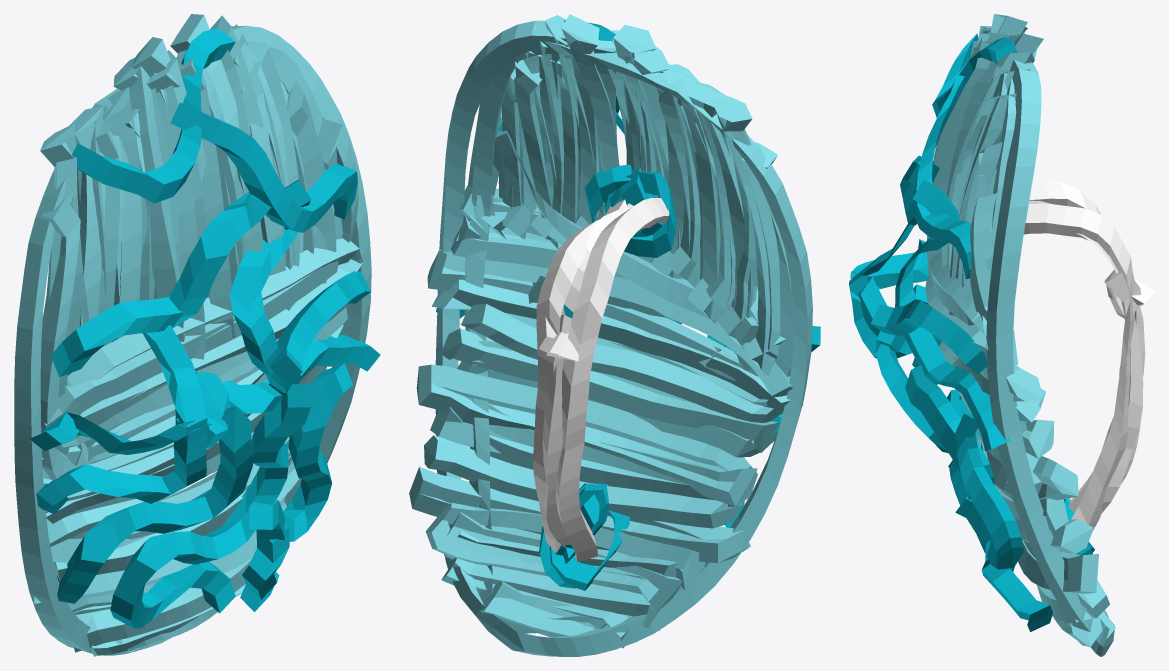
The picture shows the model from 3 angles, left to right: view 1: azimuth 30°, elevation 25°; view 2: azimuth 150°, elevation 25°; view 3: azimuth 270°, elevation 25°; orthographic projection. The views are drawn at different scales.
Visible parts, largest first — view 1: group_888109790, group_1930227908, group_1175187696, group_2078223017, group_1804307794, group_232849486, group_1075886682, group_1650806889, group_1693614599, group_1530271794, group_1909455972, group_1429146987 (+1 smaller); view 2: group_888109790, group_1625069469, group_470877161, group_599041312, group_921119160, group_1255091049, group_1049682278; view 3: group_888109790, group_470877161, group_1075886682, group_1693614599, group_232849486, group_1909455972, group_1930227908, group_1530271794, group_921119160, group_2078223017, group_1388697188, group_1625069469 (+5 smaller).
Boxes of the visible parts, left/top/right/bottom form: group_888109790: left=14, top=14, right=371, bottom=656; group_1930227908: left=110, top=384, right=310, bottom=628; group_1175187696: left=51, top=191, right=271, bottom=376; group_2078223017: left=57, top=406, right=253, bottom=603; group_1804307794: left=36, top=325, right=207, bottom=514; group_232849486: left=170, top=102, right=357, bottom=232; group_1075886682: left=249, top=363, right=352, bottom=541; group_1650806889: left=72, top=28, right=235, bottom=203; group_1693614599: left=229, top=179, right=310, bottom=396; group_1530271794: left=176, top=335, right=380, bottom=448; group_1909455972: left=270, top=271, right=370, bottom=383; group_1429146987: left=29, top=412, right=211, bottom=454; group_888109790: left=409, top=14, right=812, bottom=656; group_1625069469: left=556, top=197, right=669, bottom=561; group_470877161: left=533, top=199, right=626, bottom=552; group_599041312: left=584, top=164, right=676, bottom=257; group_921119160: left=542, top=203, right=633, bottom=548; group_1255091049: left=539, top=483, right=629, bottom=590; group_1049682278: left=539, top=314, right=578, bottom=361; group_888109790: left=925, top=14, right=1115, bottom=656; group_470877161: left=1023, top=203, right=1134, bottom=531; group_1075886682: left=955, top=413, right=1023, bottom=569; group_1693614599: left=895, top=180, right=959, bottom=384; group_232849486: left=913, top=59, right=971, bottom=278; group_1909455972: left=871, top=299, right=987, bottom=373; group_1930227908: left=905, top=364, right=1014, bottom=571; group_1530271794: left=858, top=276, right=1010, bottom=450; group_921119160: left=1029, top=200, right=1143, bottom=513; group_2078223017: left=875, top=331, right=978, bottom=453; group_1388697188: left=981, top=540, right=1052, bottom=631; group_1625069469: left=1029, top=180, right=1145, bottom=503.
Size of the model in its own units: 93.4 by 153 by 69.14.
